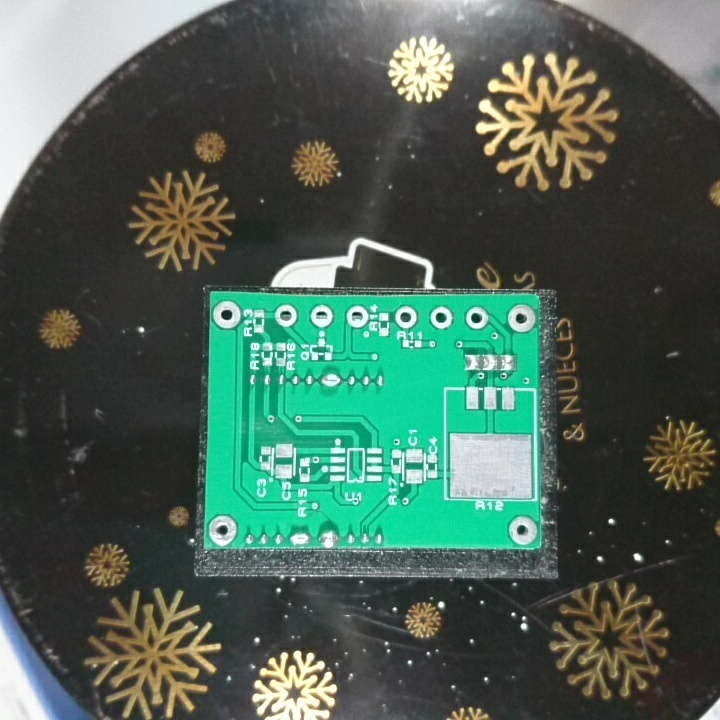F: (505, 512, 539, 546), (505, 303, 537, 335), (205, 514, 237, 546), (211, 298, 242, 329), (392, 305, 421, 332), (463, 306, 491, 332), (429, 303, 454, 332), (308, 303, 335, 329), (344, 303, 370, 329), (272, 303, 298, 327)
P: (317, 371, 343, 392), (287, 529, 312, 550), (317, 529, 339, 548)
